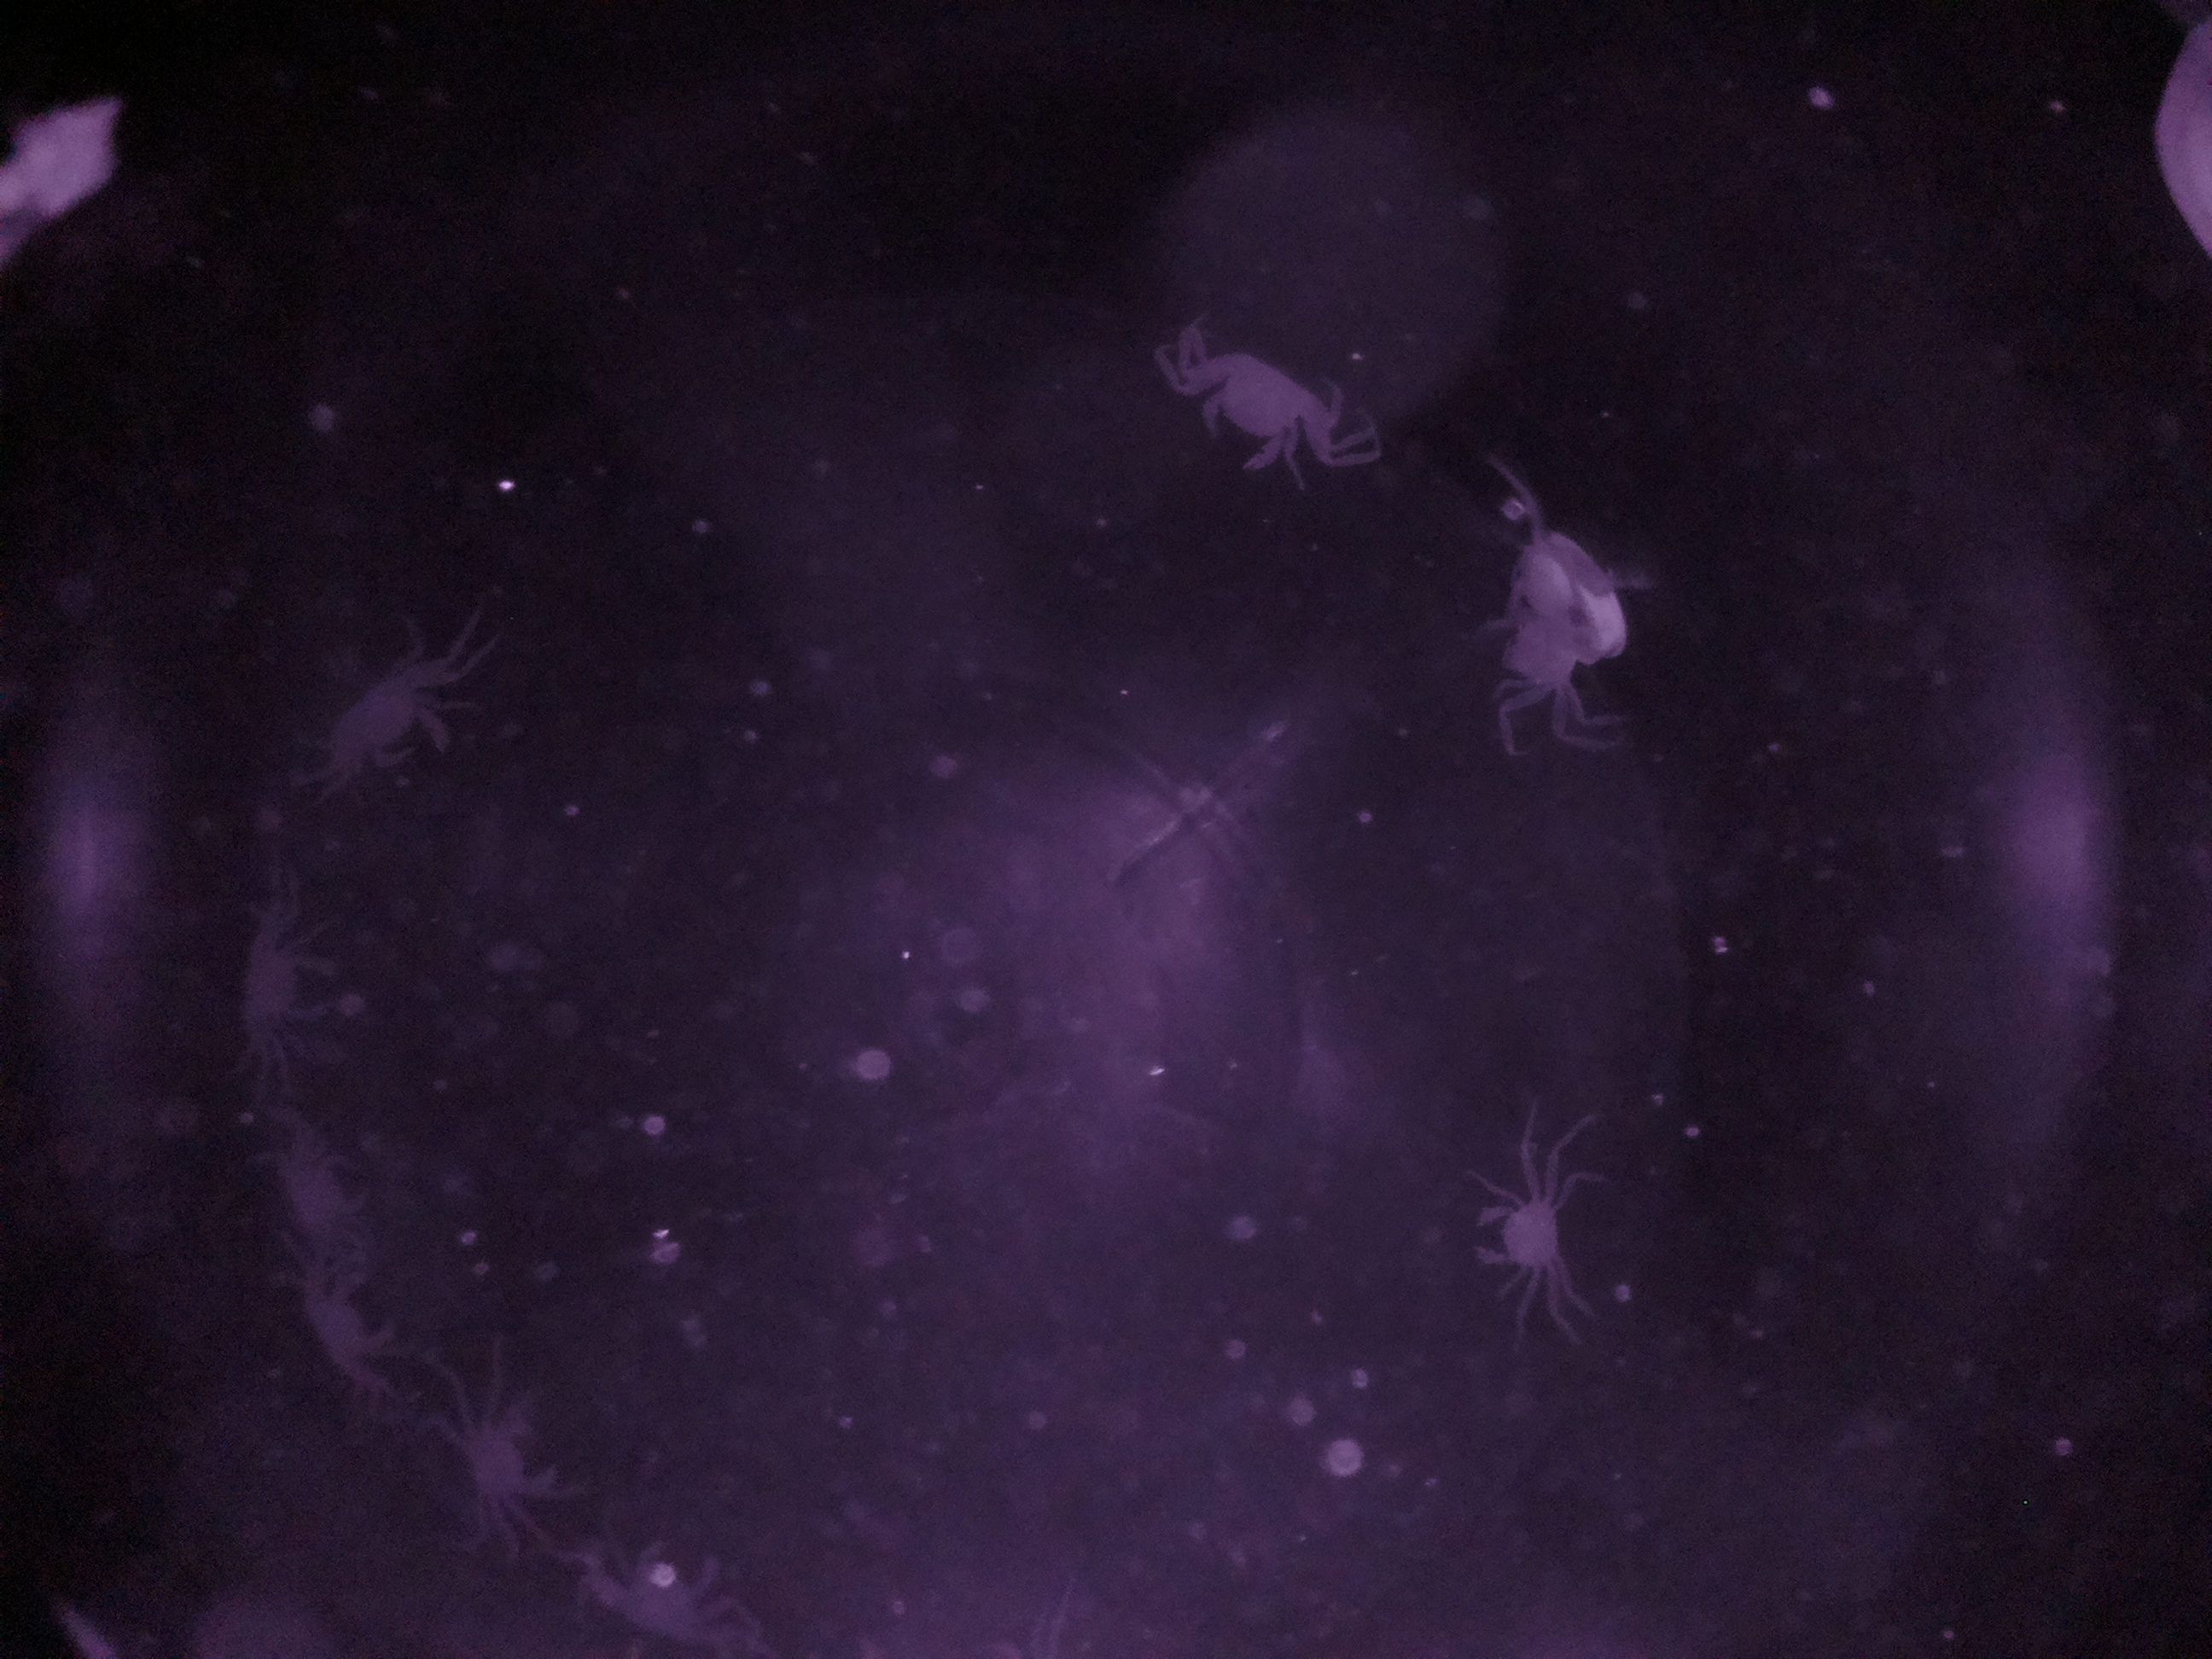Crab: (1153, 329, 1378, 495), (286, 636, 486, 805), (416, 1370, 599, 1542), (1442, 1171, 1594, 1286)
